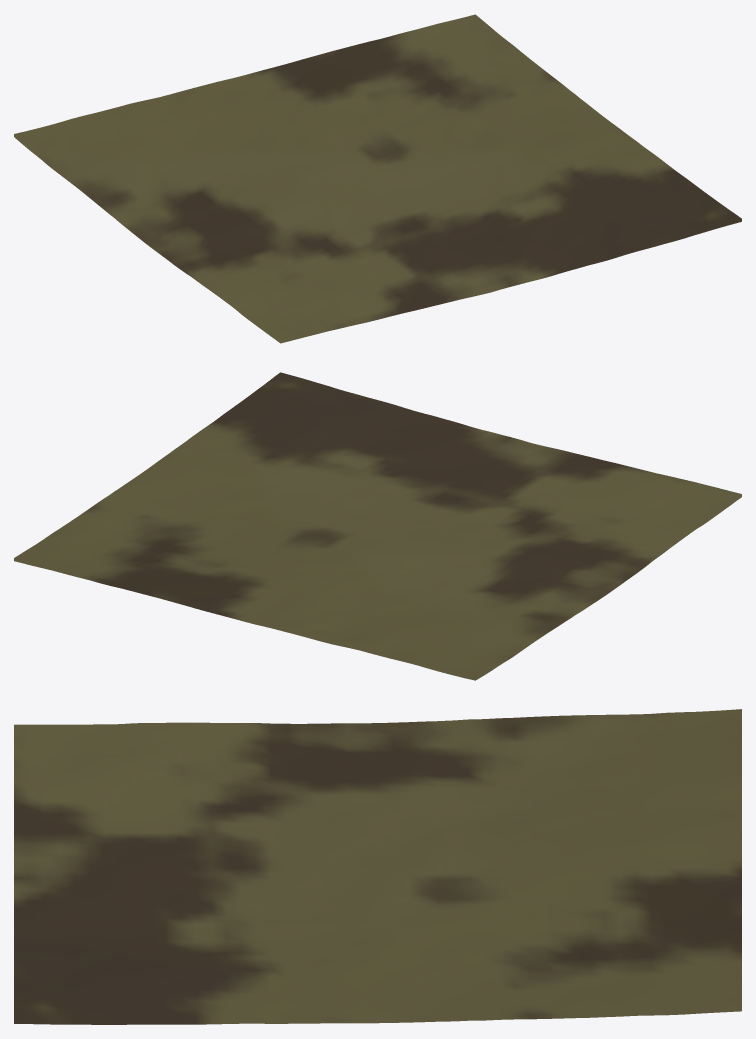
Rendered from land_m_13_08.glb.
3 renders of one model, top to bottom at view 1: azimuth 30°, elevation 25°; view 2: azimuth 150°, elevation 25°; view 3: azimuth 270°, elevation 25°, orthographic. The views are drawn at different scales.
Visible parts, largest first — view 1: land_m_13_08; view 2: land_m_13_08; view 3: land_m_13_08.
Boxes of the visible parts, x1,y1,x2,y2 form: land_m_13_08: [14, 14, 741, 343]; land_m_13_08: [14, 372, 741, 680]; land_m_13_08: [14, 709, 741, 1024].
Bounding box in the file's own units: 960 × 43.22 × 960.
